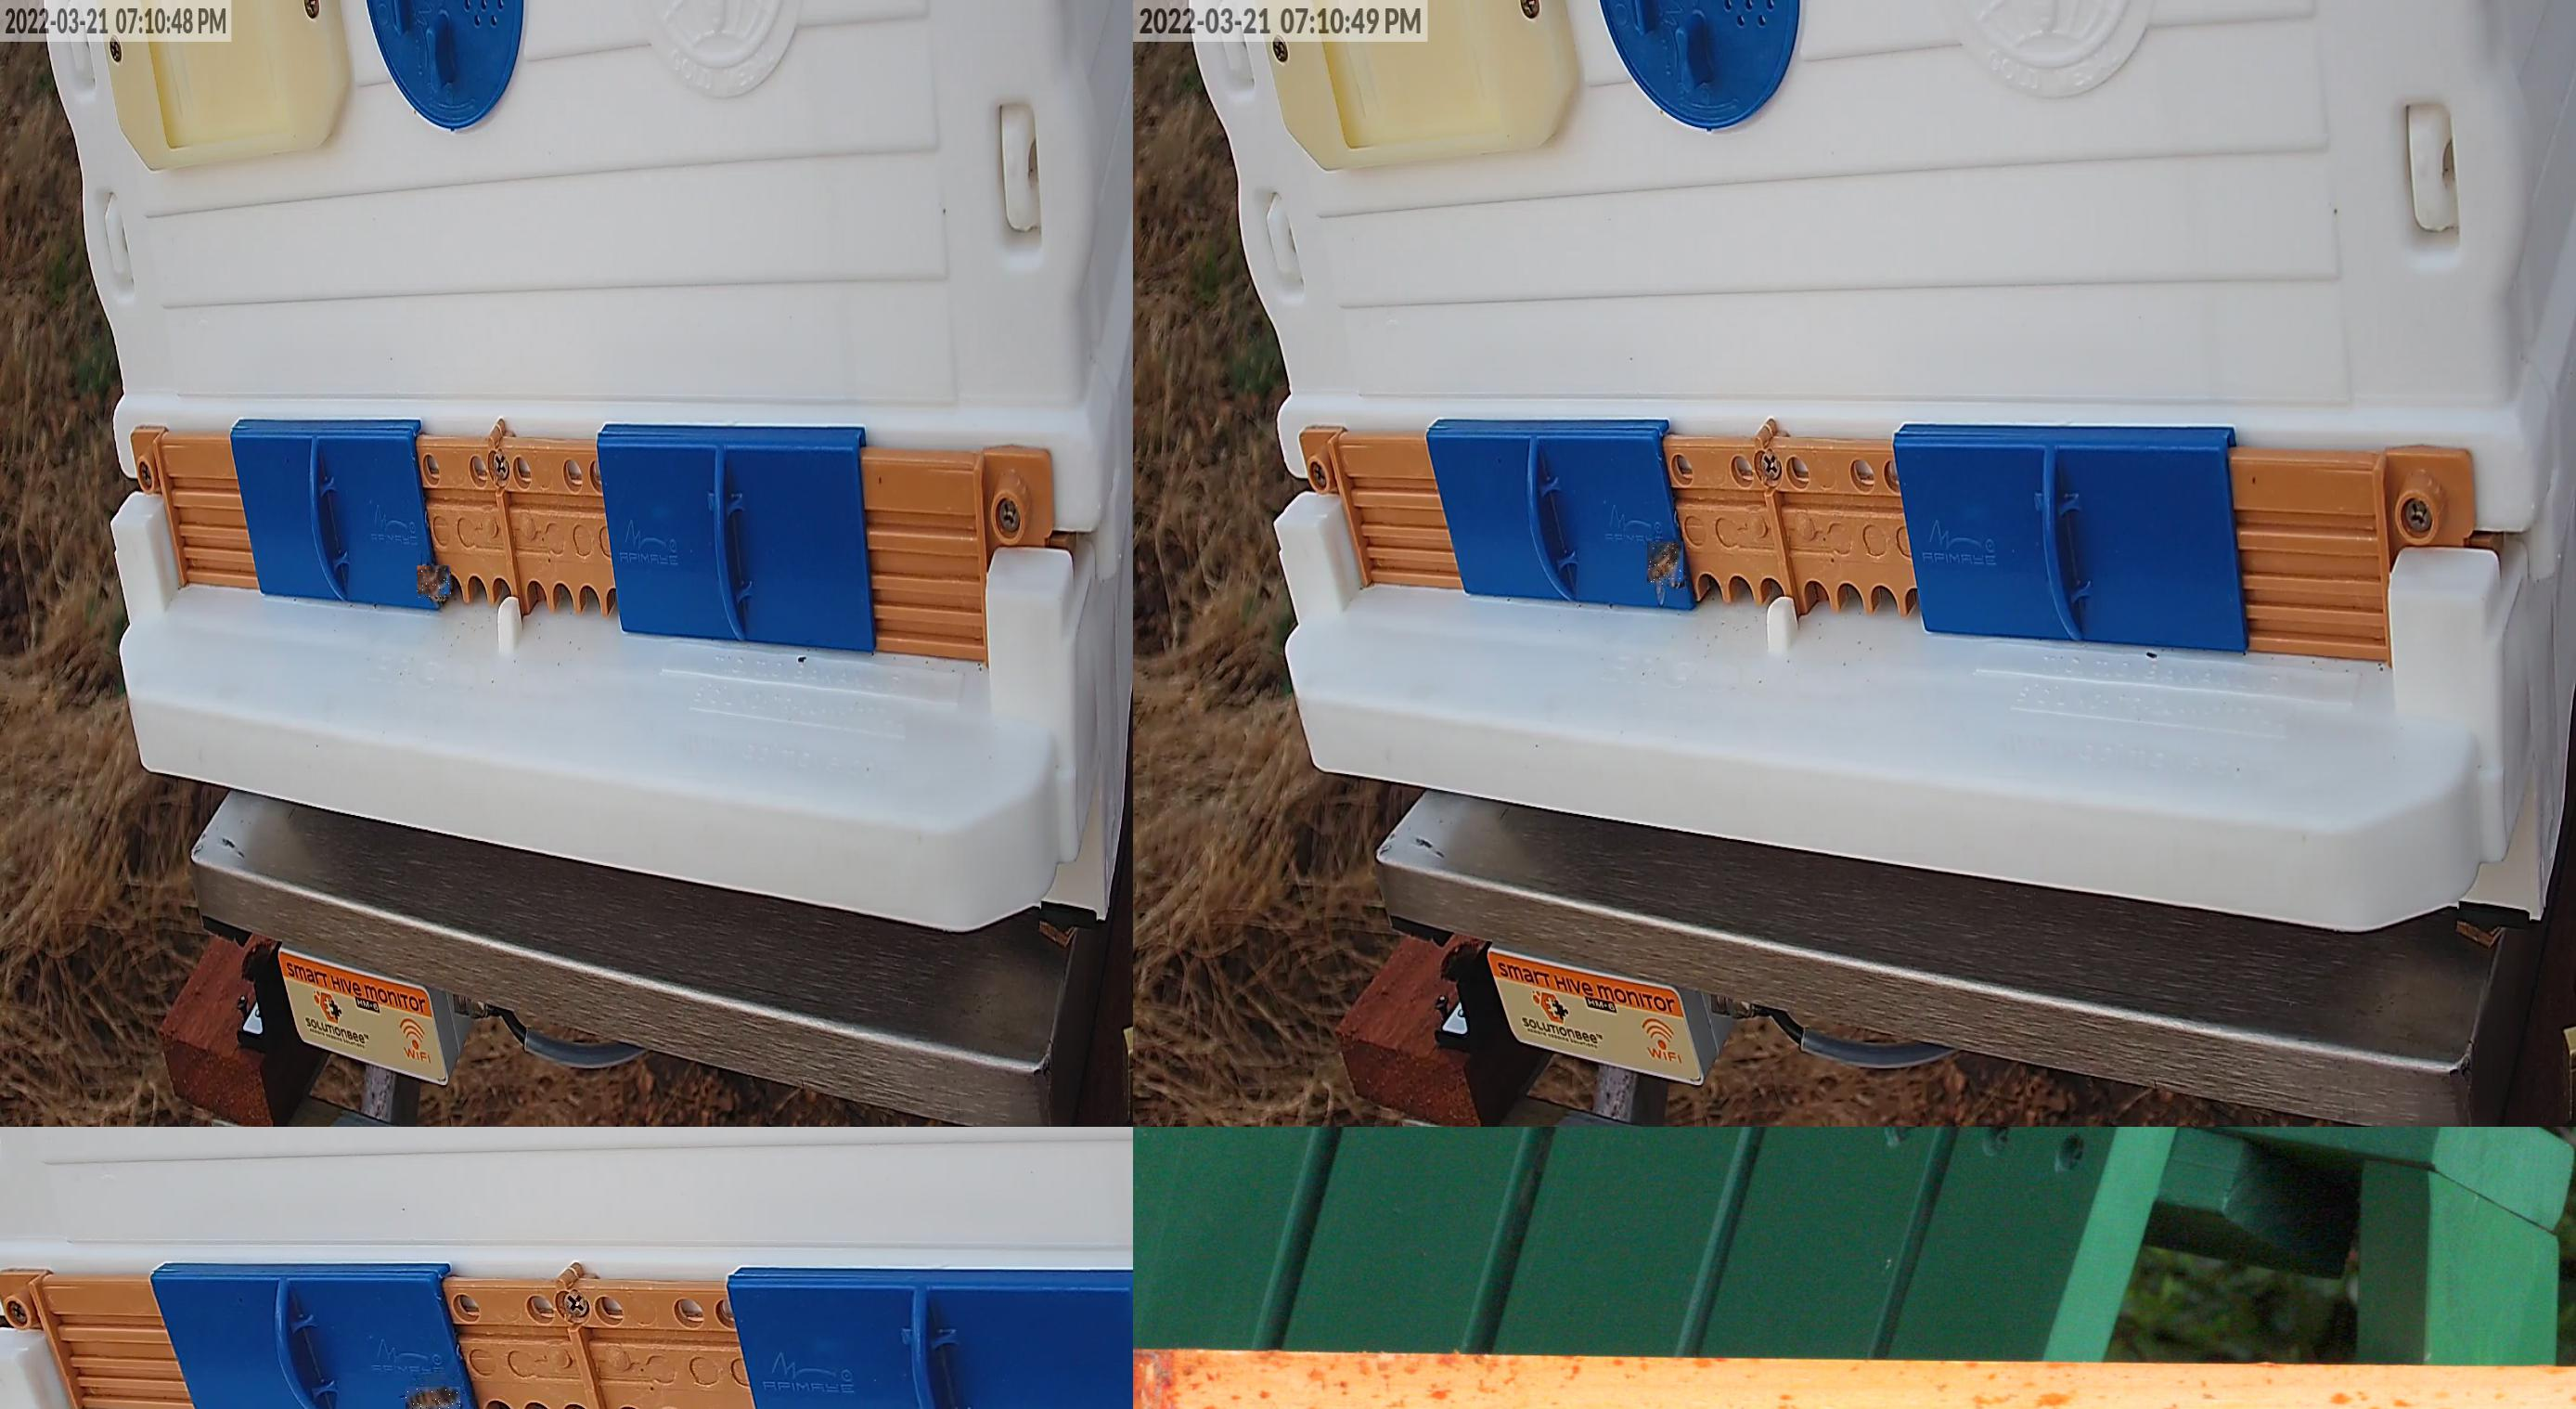bee: (1648, 543, 1684, 587), (406, 1386, 461, 1407), (418, 567, 453, 600)
